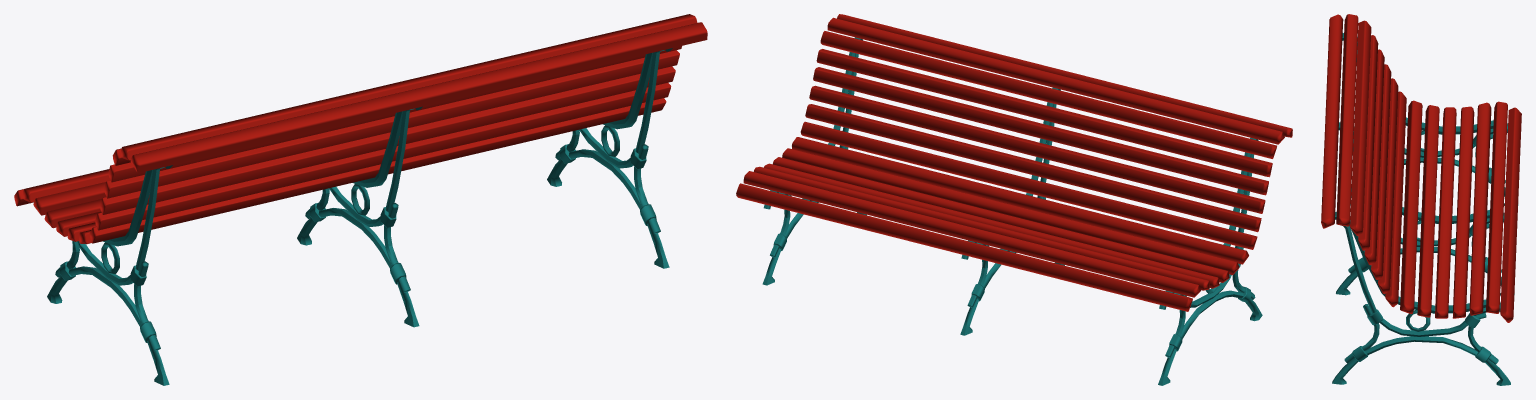
File: bench.dae
The picture shows the model from 3 angles, left to right: view 1: azimuth 30°, elevation 25°; view 2: azimuth 150°, elevation 25°; view 3: azimuth 270°, elevation 25°; orthographic projection. The views are drawn at different scales.
Parts seen in each view (by area): view 1: g mobUrbano1:polySurface2 mobUrbano1:banco6 pasted__group gr, g mobUrbano1:banco6 pasted__group group1 group4 mobUrbano1:p (×3); view 2: g mobUrbano1:polySurface2 mobUrbano1:banco6 pasted__group gr, g mobUrbano1:banco6 pasted__group group1 group4 mobUrbano1:p (×3); view 3: g mobUrbano1:polySurface2 mobUrbano1:banco6 pasted__group gr, g mobUrbano1:banco6 pasted__group group1 group4 mobUrbano1:p (×3).
Boxes of the visible parts, x1,y1,x2,y2 form: g mobUrbano1:polySurface2 mobUrbano1:banco6 pasted__group gr: (14,14,707,244); g mobUrbano1:banco6 pasted__group group1 group4 mobUrbano1:p (×3): (47,48,672,385); g mobUrbano1:polySurface2 mobUrbano1:banco6 pasted__group gr: (736,14,1292,311); g mobUrbano1:banco6 pasted__group group1 group4 mobUrbano1:p (×3): (762,37,1262,385); g mobUrbano1:polySurface2 mobUrbano1:banco6 pasted__group gr: (1321,14,1521,322); g mobUrbano1:banco6 pasted__group group1 group4 mobUrbano1:p (×3): (1332,33,1518,385).
Bounding box in the file's own units: 18.11 × 7.32 × 7.49.
